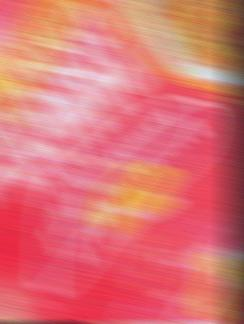egg: (93, 322, 244, 324)
pancit canton sweet and spicy: (0, 0, 244, 324)
